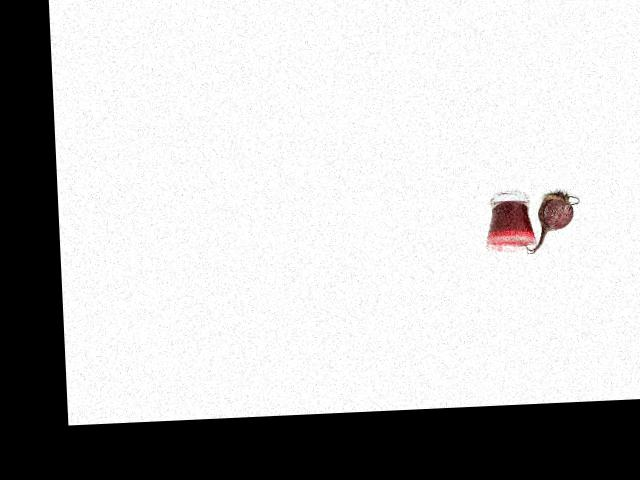beet: (515, 189, 581, 254)
